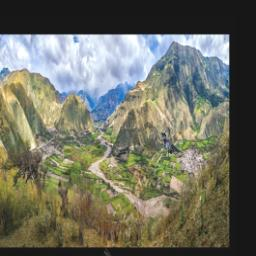Crow: (160, 133, 184, 158)
